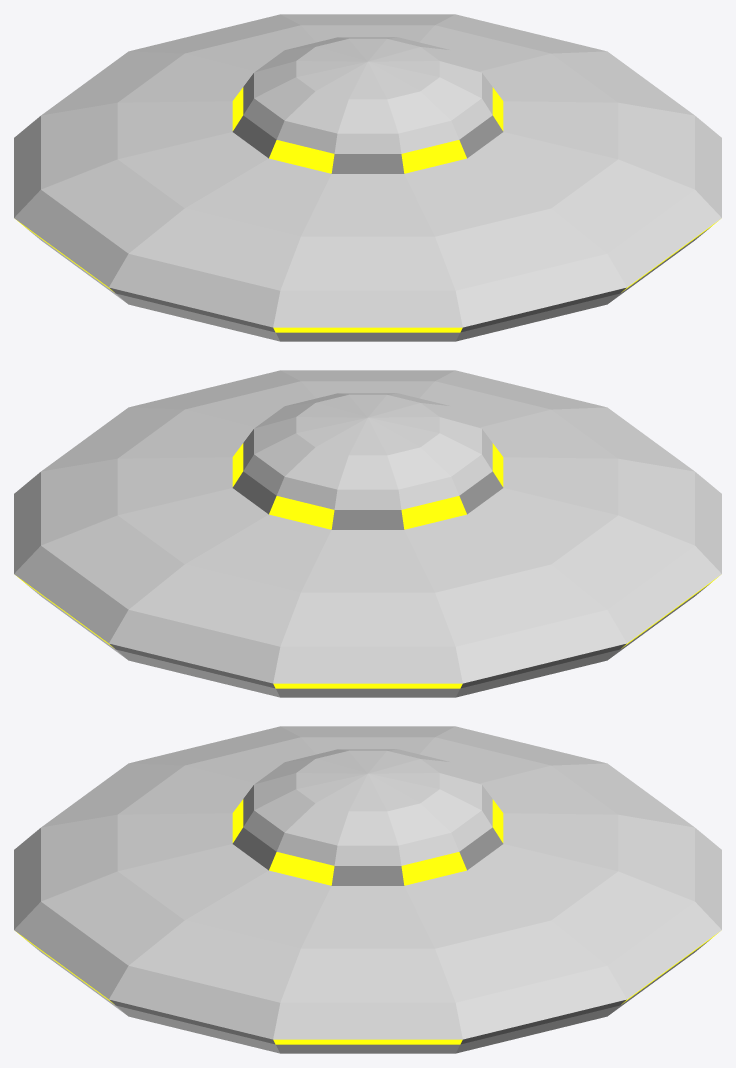
Rendered from Low_Poly_UFO_001.fbx.
3 renders of one model, top to bottom at view 1: azimuth 30°, elevation 25°; view 2: azimuth 150°, elevation 25°; view 3: azimuth 270°, elevation 25°, orthographic.
Visible parts, largest first — view 1: Low_Poly_UFO_001; view 2: Low_Poly_UFO_001; view 3: Low_Poly_UFO_001.
Boxes of the visible parts, box(x1,y1,x2,y2) form: Low_Poly_UFO_001: box(14, 14, 721, 341); Low_Poly_UFO_001: box(14, 370, 721, 697); Low_Poly_UFO_001: box(14, 726, 721, 1053).
Bounding box in the file's own units: 580 × 177 × 580.
